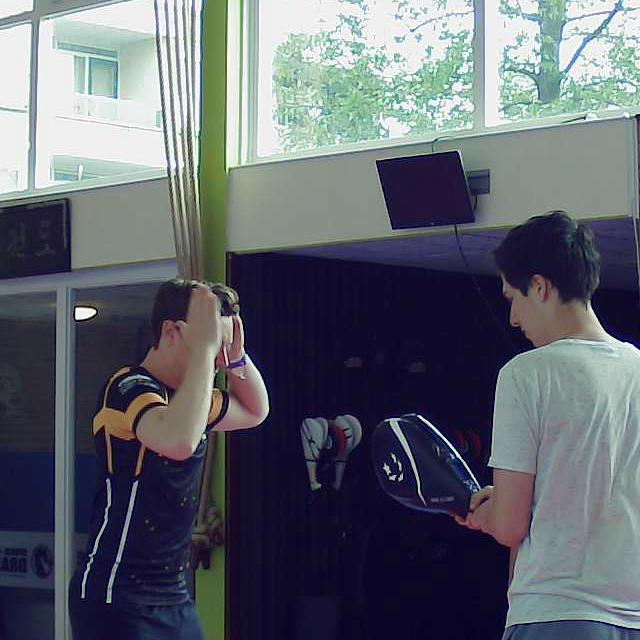paddle: (368, 409, 482, 525)
